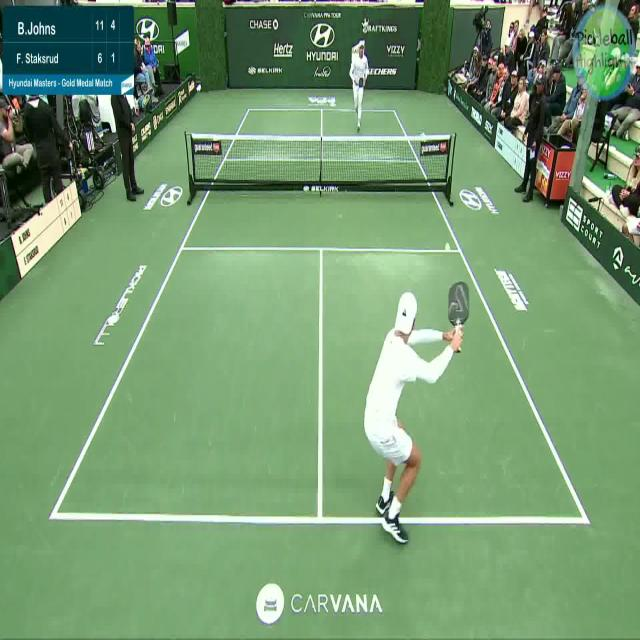ball: (441, 237, 453, 259)
